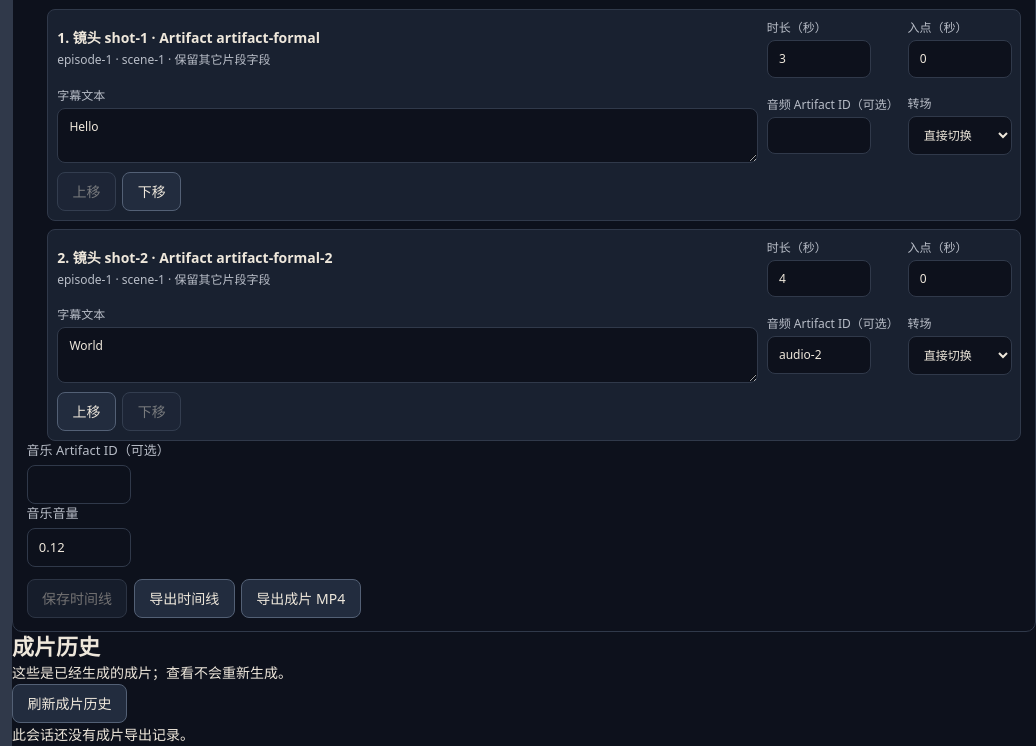
Test case: EditingWorkspace › exports the persisted session by exact id and displays only manifest summary
(page scrolled)
What coordinates should you click on to do the following:
click the button with test id "export-edit-session"
I would click on:
 (184, 598)
Its box is [134, 579, 235, 618].
(page scrolled)
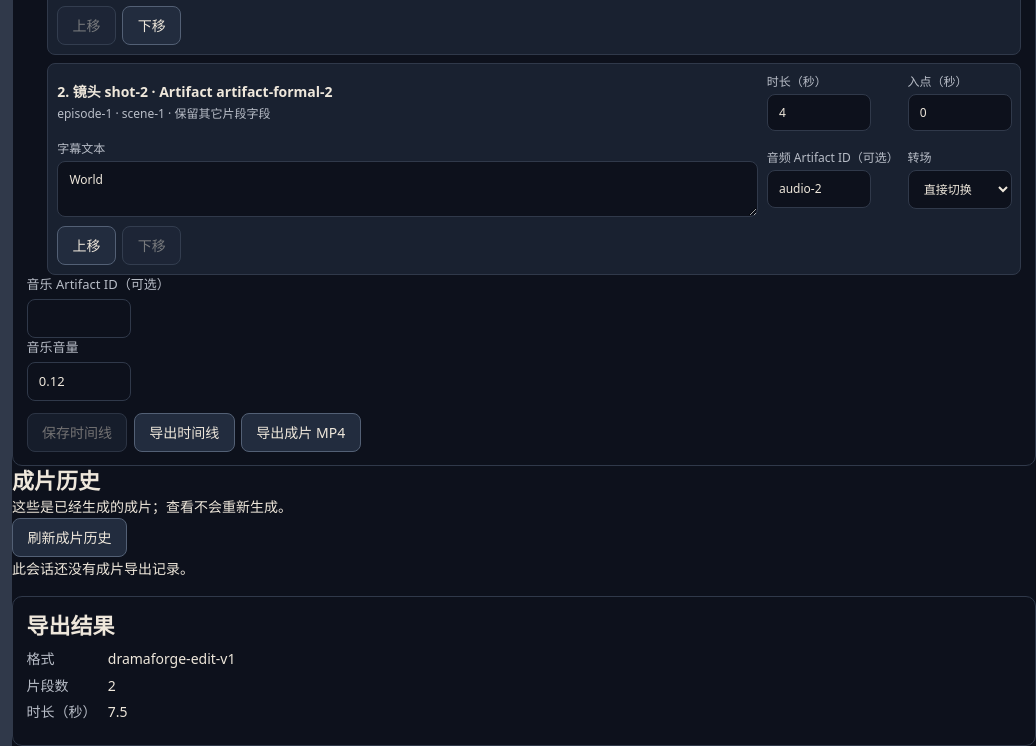
Now the element with test id "edit-session-export" shows "dramaforge-edit-v1", box [108, 649, 236, 668]
Now the element with test id "edit-session-export" shows "7.5", box [108, 702, 128, 721]
Now the element with test id "edit-session-export" shows "2", box [108, 676, 116, 695]
